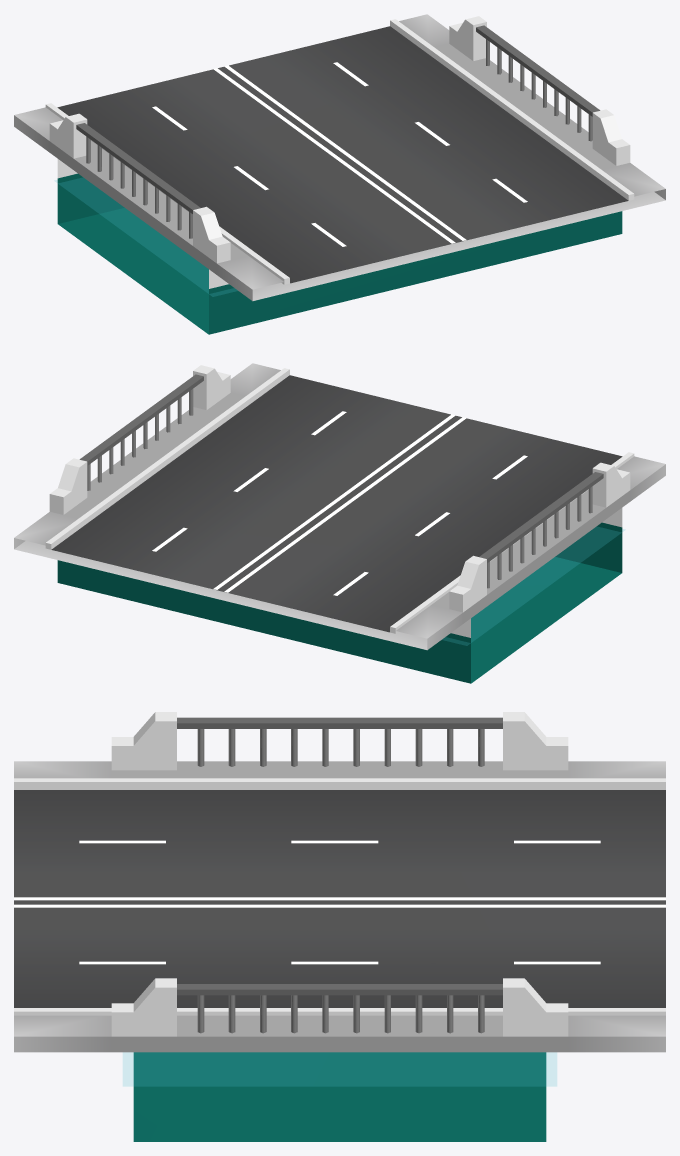
File: road_005.glb
3 views of the same model, one above another, from view 1: azimuth 30°, elevation 25°; view 2: azimuth 150°, elevation 25°; view 3: azimuth 270°, elevation 25° (orthographic). The views are drawn at different scales.
Visible parts, largest first — view 1: road_005; view 2: road_005; view 3: road_005.
Boxes of the visible parts, x1,y1,x2,y2 form: road_005: [14, 14, 665, 334]; road_005: [14, 363, 665, 683]; road_005: [14, 712, 665, 1141].
Bounding box in the file's own units: 15 × 3.92 × 15.
2 materials, 2 textured.
